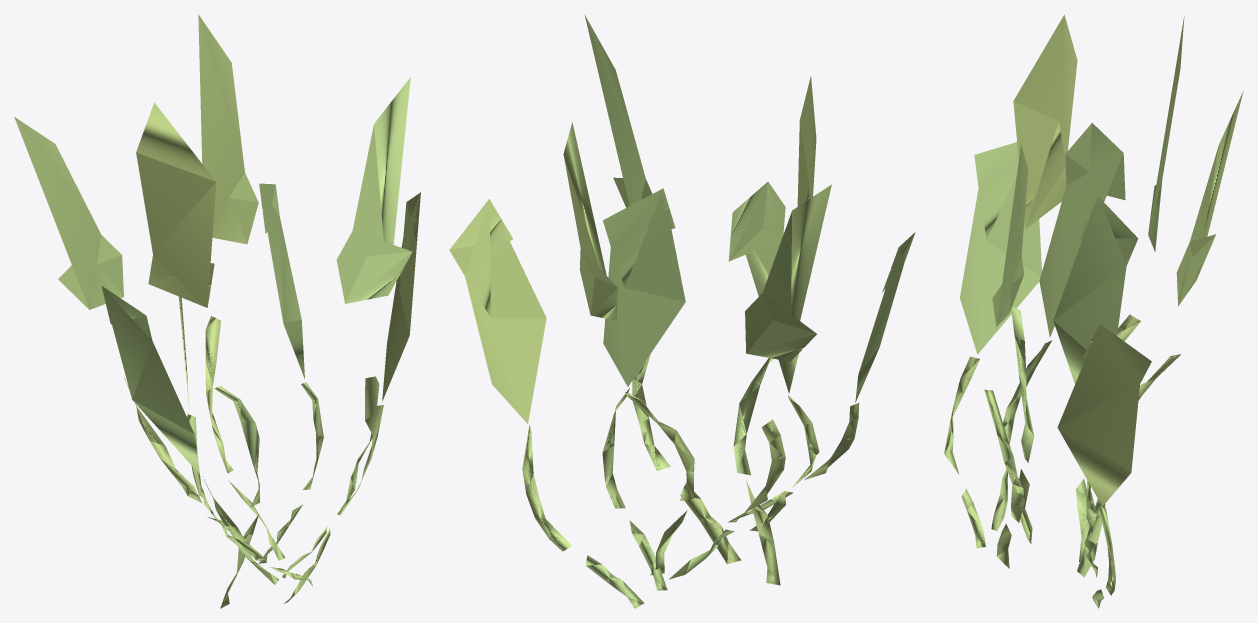
3 views of the same model, side by side, from view 1: azimuth 30°, elevation 25°; view 2: azimuth 150°, elevation 25°; view 3: azimuth 270°, elevation 25° (orthographic). The views are drawn at different scales.
Visible parts, largest first — view 1: amazon-sword; view 2: amazon-sword; view 3: amazon-sword.
Boxes of the visible parts, x1,y1,x2,y2 form: amazon-sword: (14, 14, 420, 608); amazon-sword: (449, 14, 915, 608); amazon-sword: (944, 14, 1243, 608).
Size of the model in its own units: 0.2226 by 0.2969 by 0.1543.
